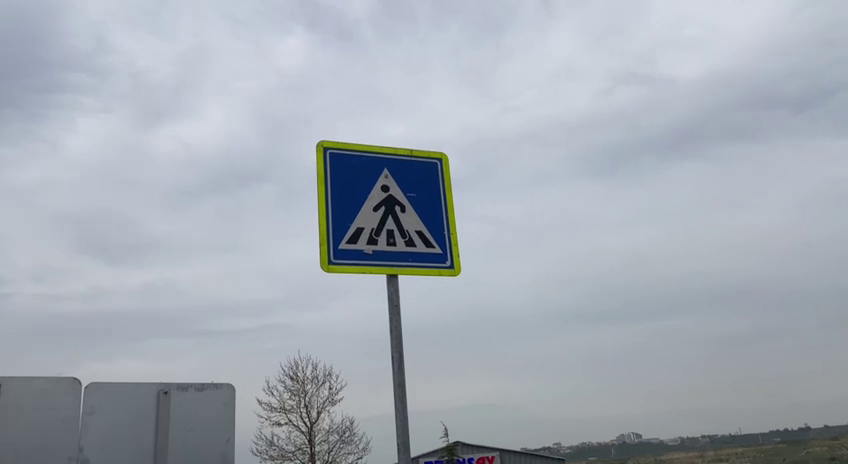pedestrianCrossing: (313, 137, 463, 279)
